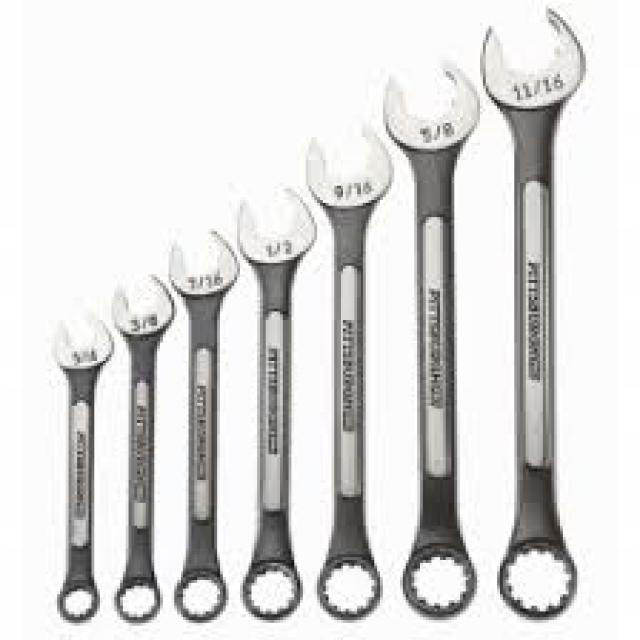wrench: (478, 1, 594, 627), (378, 46, 486, 624), (300, 114, 400, 626), (230, 176, 322, 626), (163, 220, 247, 627), (105, 267, 178, 628), (46, 302, 118, 630)
